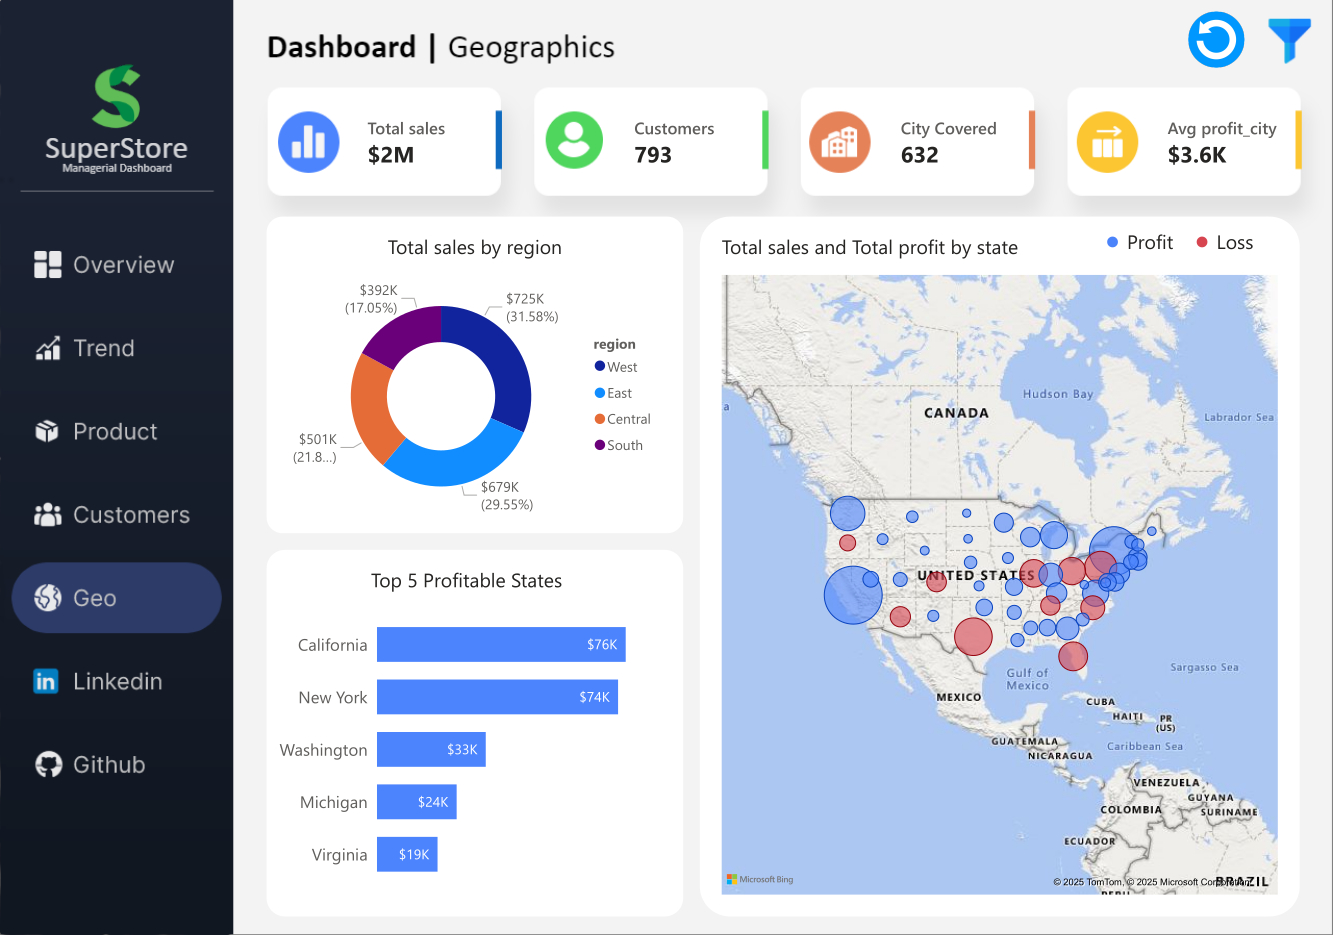

Layout of this report page (visuals, bound fields, positions):
{"tool":"powerbi","page":{"name":"Geographics","canvas":[1280,900],"ordinal":4},"visuals":[{"type":"actionButton","title":"Filter swicth_off","box":[1192,0,88,72],"z":1000,"group":"g1"},{"type":"shape","box":[256,208,400,304],"z":1000},{"type":"cardVisual","fields":{"Data":["Measure_table.Total sales"]},"box":[336,80,112,112],"z":2000},{"type":"shape","box":[256,528,400,352],"z":3000},{"type":"shape","box":[672,208,576,672],"z":4000},{"type":"cardVisual","fields":{"Data":["Measure_table.Total Customers"]},"box":[592,80,128,112],"z":5000},{"type":"map","fields":{"Size":["Measure_table.Total sales"],"Category":["gold d_location.state"]},"box":[688,224,544,640],"z":8000},{"type":"barChart","title":"Top 5 Profitable States","fields":{"Category":["gold d_location.state"],"Y":["Measure_table.Total profit"]},"box":[256,544,384,320],"z":9000},{"type":"donutChart","fields":{"Category":["gold d_location.region"],"Y":["Measure_table.Total sales"]},"box":[272,224,368,288],"z":11000},{"type":"textbox","box":[1056,208,176,48],"z":12000},{"type":"cardVisual","fields":{"Data":["Measure_table.total city served"]},"box":[848,80,144,112],"z":13000},{"type":"cardVisual","fields":{"Data":["Measure_table.avg profit per_city"]},"box":[1104,80,144,112],"z":14000},{"type":"image","box":[0,0,224,224],"z":15000},{"type":"image","box":[1136,6,64,64],"z":16000},{"type":"group","id":"g1","title":"Filter","box":[896,0,384,900],"z":17000},{"type":"group","id":"g2","title":"Nav Buttons","box":[0,217.9,224.1,549.7],"z":17001},{"type":"actionButton","box":[0,624.8,224.1,63.3],"z":20000,"group":"g2"},{"type":"actionButton","box":[0,704.3,224.1,63.3],"z":21000,"group":"g2"},{"type":"pageNavigator","box":[0,217.9,224.1,388.6],"z":22000,"group":"g2"}]}

Visuals, with their boxes on the page's 1280x900 design canvas (x1, y1, x2, y2). These are canvas units, not pixel positions in the 1333x935 screenshot, which may show the page scaled, cropped or inside an application window:
"Filter swicth_off" actionButton: [left=1192, top=0, right=1280, bottom=72]
shape: [left=256, top=208, right=656, bottom=512]
cardVisual - Measure_table.Total sales: [left=336, top=80, right=448, bottom=192]
shape: [left=256, top=528, right=656, bottom=880]
shape: [left=672, top=208, right=1248, bottom=880]
cardVisual - Measure_table.Total Customers: [left=592, top=80, right=720, bottom=192]
map - Measure_table.Total sales x gold d_location.state: [left=688, top=224, right=1232, bottom=864]
"Top 5 Profitable States" barChart: [left=256, top=544, right=640, bottom=864]
donutChart - gold d_location.region x Measure_table.Total sales: [left=272, top=224, right=640, bottom=512]
textbox: [left=1056, top=208, right=1232, bottom=256]
cardVisual - Measure_table.total city served: [left=848, top=80, right=992, bottom=192]
cardVisual - Measure_table.avg profit per_city: [left=1104, top=80, right=1248, bottom=192]
image: [left=0, top=0, right=224, bottom=224]
image: [left=1136, top=6, right=1200, bottom=70]
"Filter" group: [left=896, top=0, right=1280, bottom=900]
"Nav Buttons" group: [left=0, top=218, right=224, bottom=768]
actionButton: [left=0, top=625, right=224, bottom=688]
actionButton: [left=0, top=704, right=224, bottom=768]
pageNavigator: [left=0, top=218, right=224, bottom=606]
